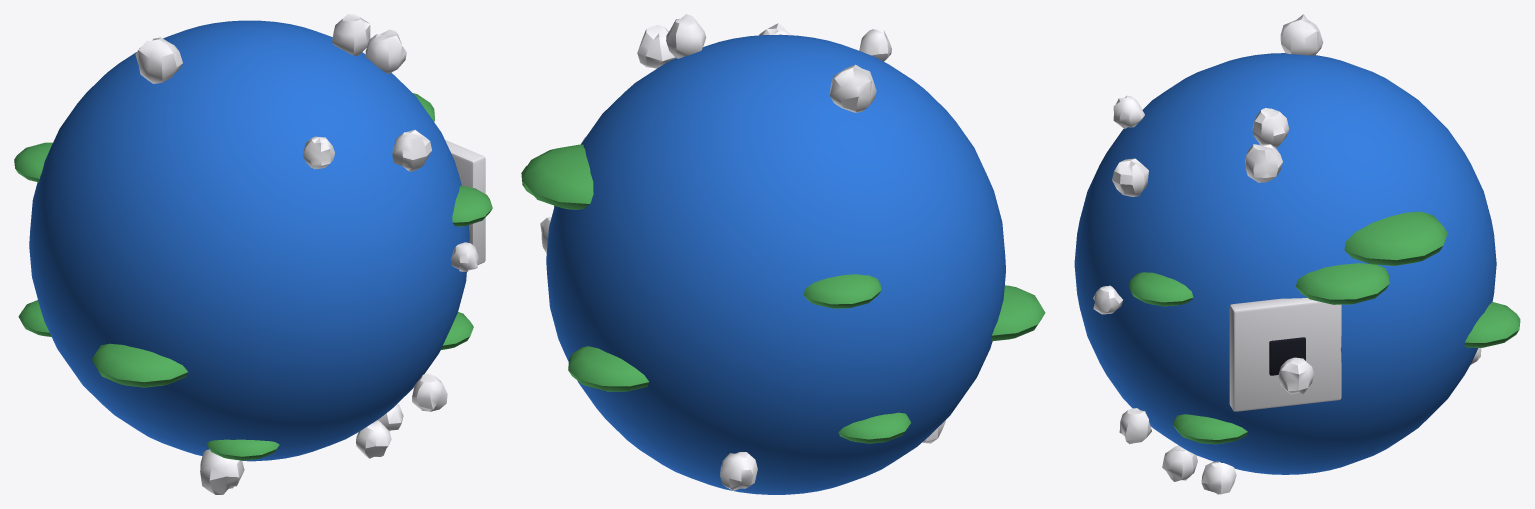
The model's file is FinaleRobloxPlanet.fbx.
3 views of the same model, side by side, from view 1: azimuth 30°, elevation 25°; view 2: azimuth 150°, elevation 25°; view 3: azimuth 270°, elevation 25° (orthographic). The views are drawn at different scales.
Parts seen in each view (by area): view 1: FinaleRobloxPlanet; view 2: FinaleRobloxPlanet; view 3: FinaleRobloxPlanet.
Boxes of the visible parts, x1=… form: FinaleRobloxPlanet: x1=14, y1=14, x2=492, y2=494; FinaleRobloxPlanet: x1=521, y1=14, x2=1045, y2=494; FinaleRobloxPlanet: x1=1074, y1=14, x2=1520, y2=494.
Bounding box in the file's own units: 9890 × 9354 × 9508.
